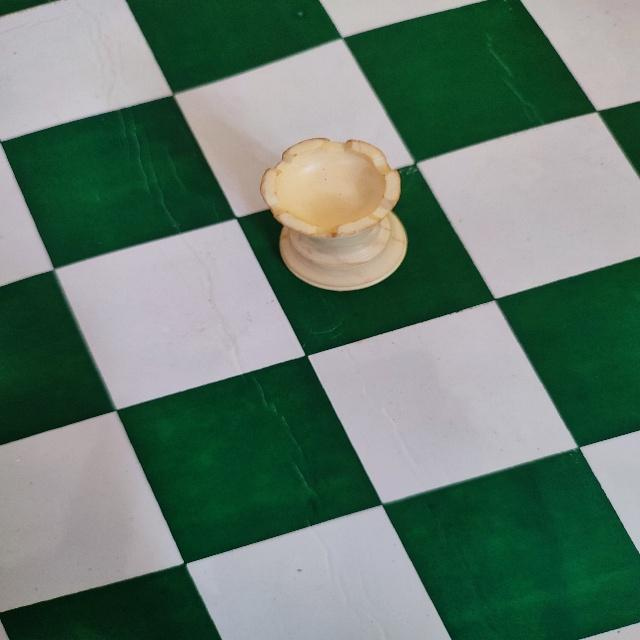Rook: (257, 133, 412, 296)
